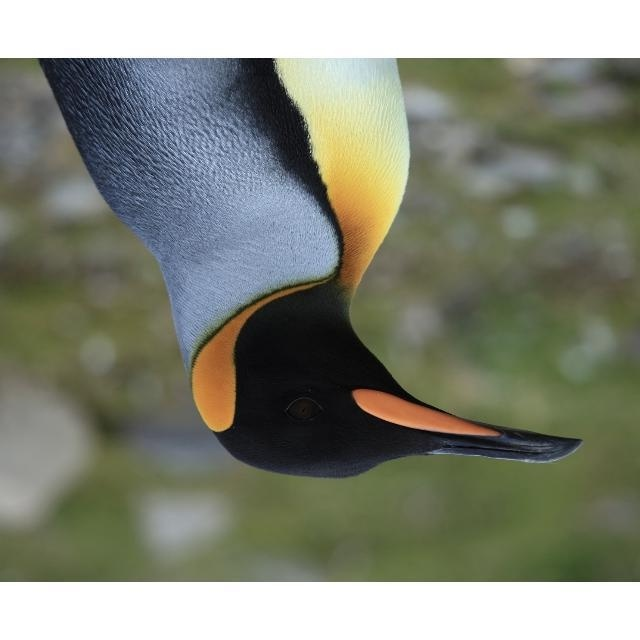penguin: (38, 59, 584, 479)
